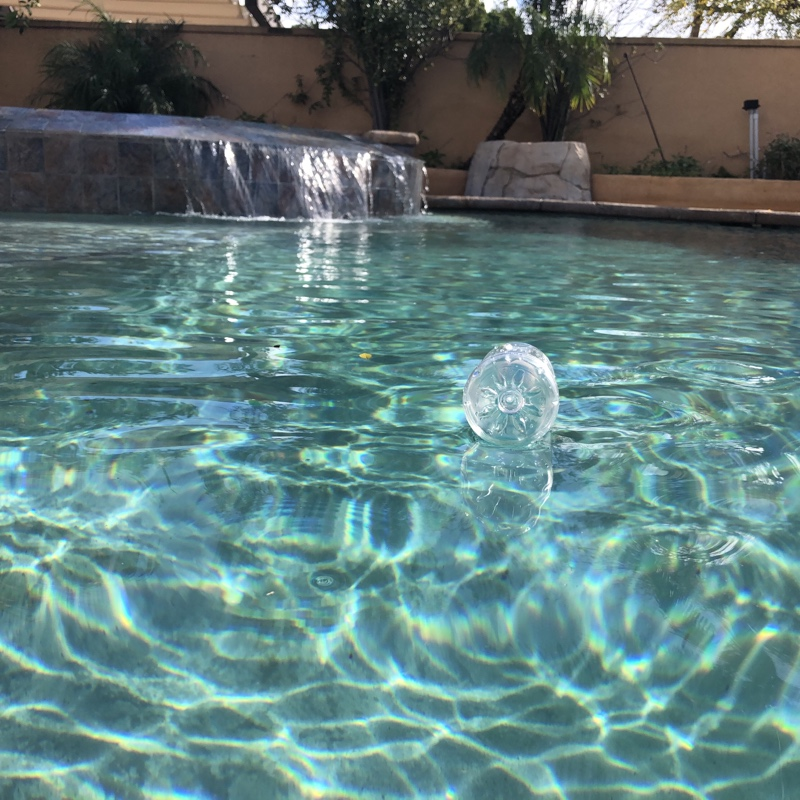Plastic Bottle: (459, 333, 564, 462)
